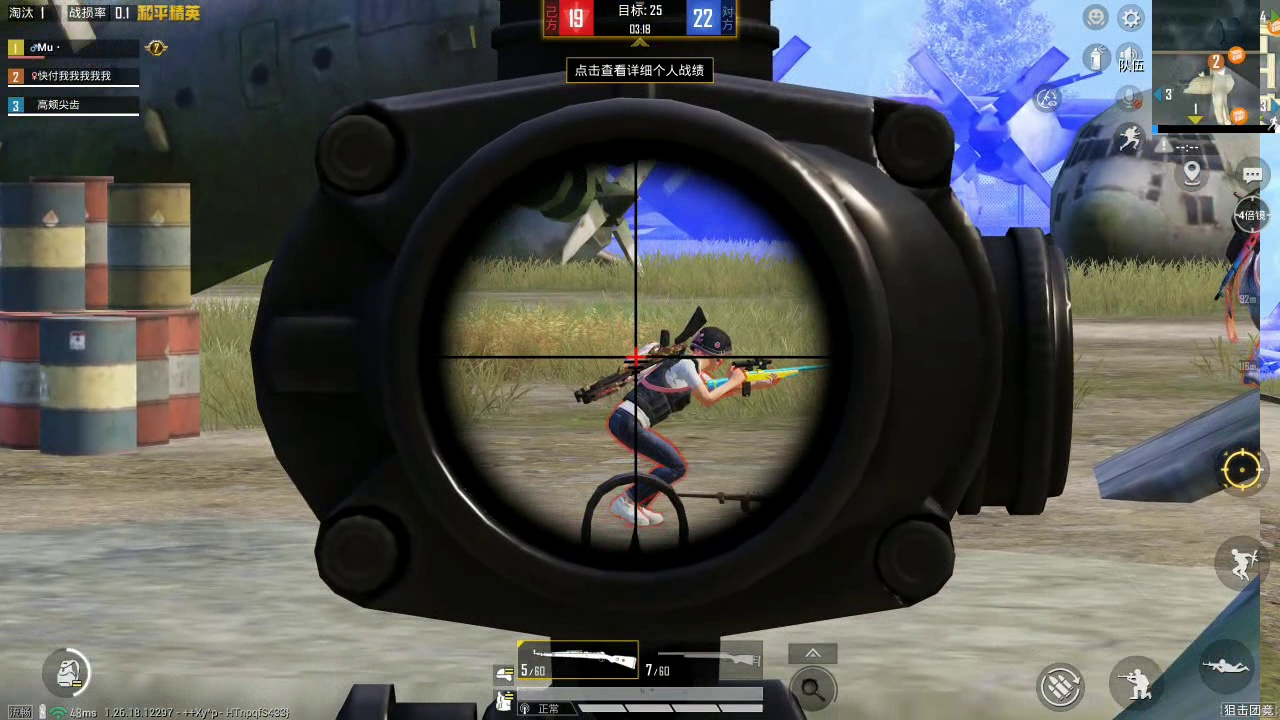enemy: (611, 324, 744, 519)
